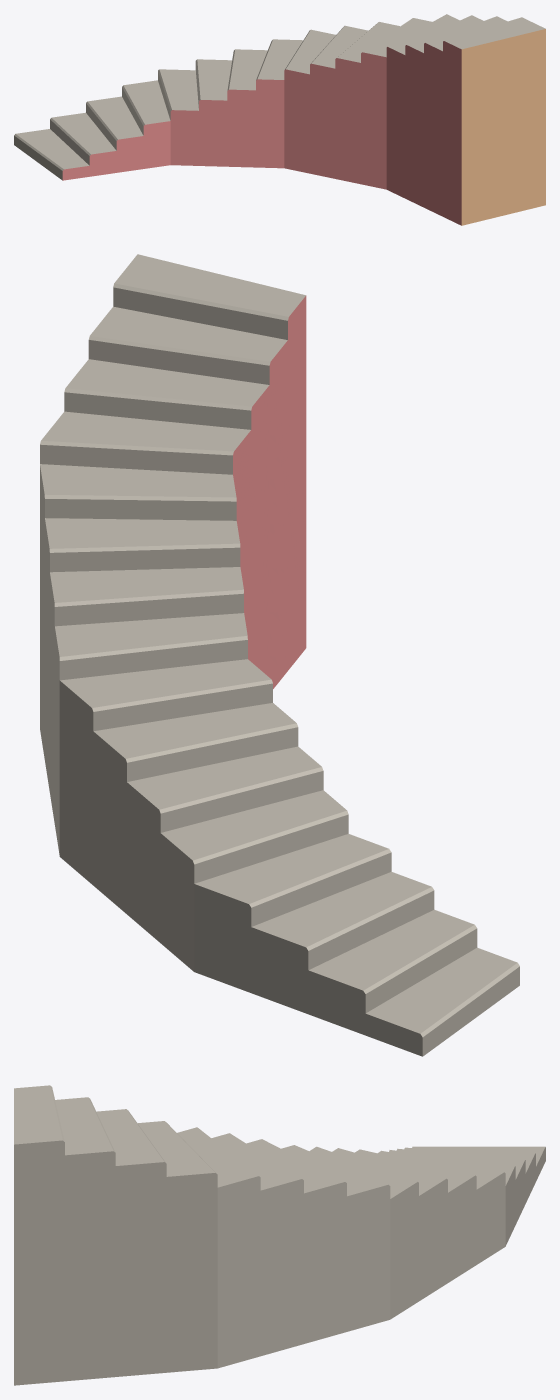
Rendered from Tiered_Walkway_Steps_Curve_Tall_4x4.glb.
3 renders of one model, top to bottom at view 1: azimuth 30°, elevation 25°; view 2: azimuth 150°, elevation 25°; view 3: azimuth 270°, elevation 25°, orthographic. The views are drawn at different scales.
Visible parts, largest first — view 1: Tiered_Walkway_Steps_Curve_Tall_4x4; view 2: Tiered_Walkway_Steps_Curve_Tall_4x4; view 3: Tiered_Walkway_Steps_Curve_Tall_4x4.
Part boxes in pixels (x1,y1,x2,y2): Tiered_Walkway_Steps_Curve_Tall_4x4: (14, 14, 545, 225); Tiered_Walkway_Steps_Curve_Tall_4x4: (40, 254, 519, 1056); Tiered_Walkway_Steps_Curve_Tall_4x4: (14, 1085, 545, 1385).
Bounding box in the file's own units: 400 × 200 × 400.
